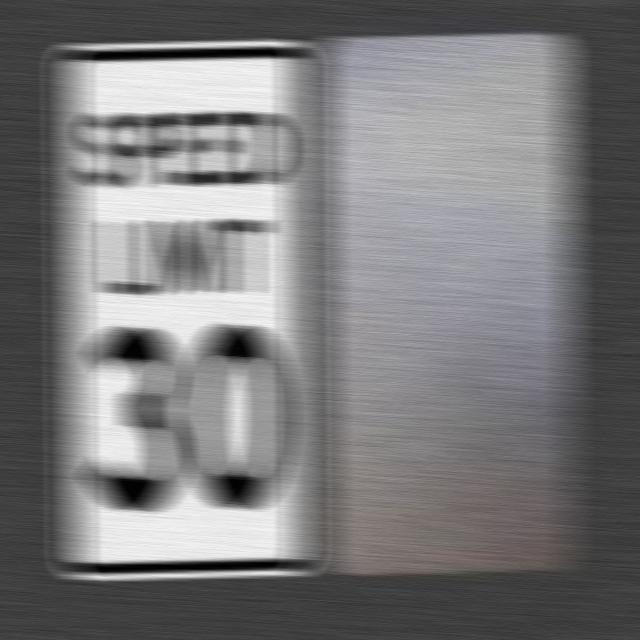speedLimit30: (48, 52, 314, 581)
